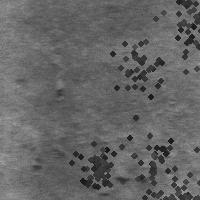rolled-in_scale: (84, 13, 196, 125), (111, 114, 189, 192), (121, 141, 200, 200), (97, 132, 186, 184), (146, 0, 200, 70), (65, 136, 125, 196)
